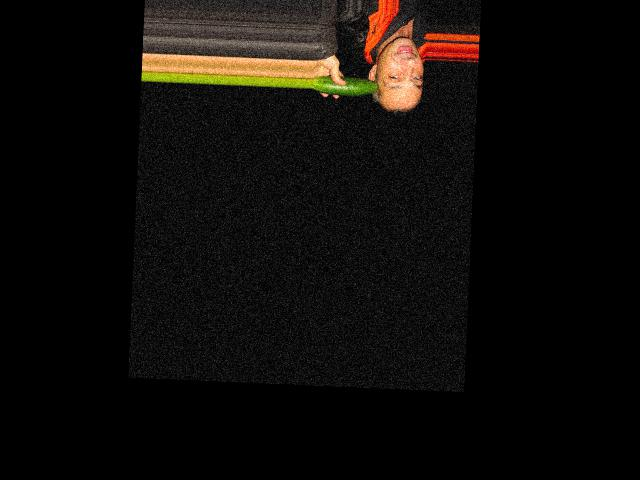cucumber: (312, 75, 379, 97)
